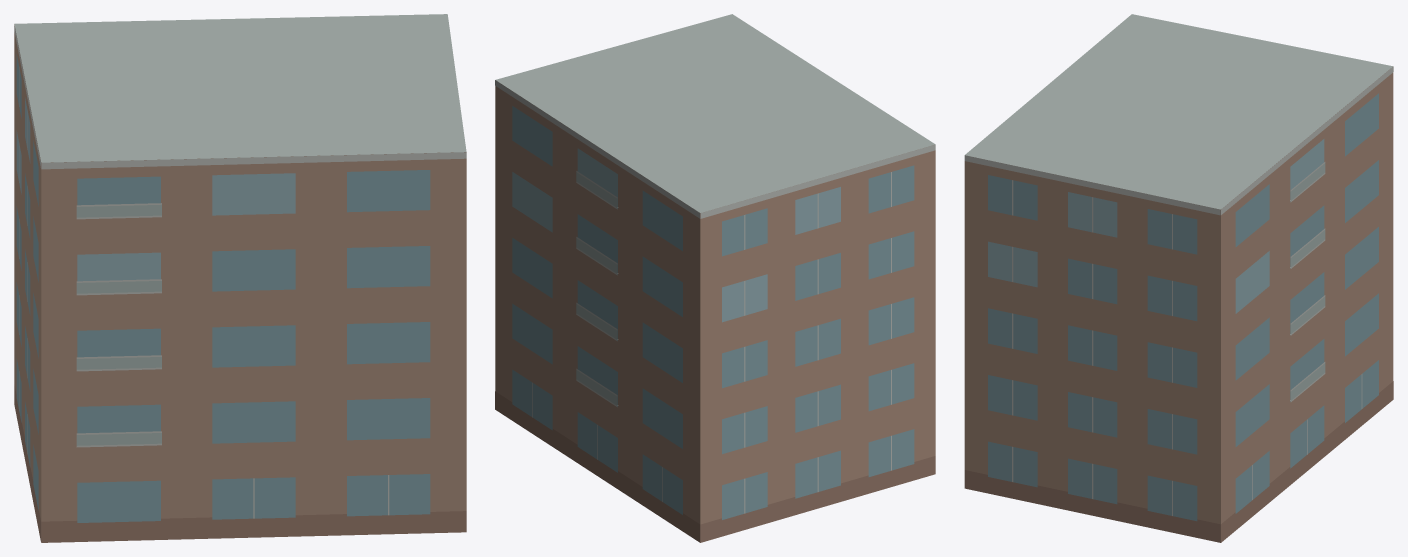
The model's file is survey-upis-32842189.glb.
The picture shows the model from 3 angles, left to right: view 1: azimuth 30°, elevation 25°; view 2: azimuth 150°, elevation 25°; view 3: azimuth 270°, elevation 25°; orthographic projection. The views are drawn at different scales.
Parts seen in each view (by area): view 1: survey-upis-32842189.tmp; view 2: survey-upis-32842189.tmp; view 3: survey-upis-32842189.tmp.
Part boxes in pixels (box(x1,y1,x2,y2)): survey-upis-32842189.tmp: box(14, 14, 466, 542); survey-upis-32842189.tmp: box(495, 14, 935, 542); survey-upis-32842189.tmp: box(964, 14, 1393, 542).
Size of the model in its own units: 17.44 by 13.85 by 16.16.
